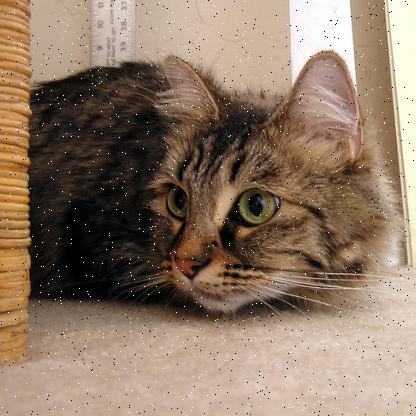cat: (74, 42, 384, 331)
